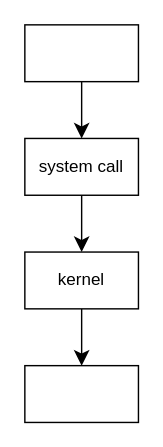
Some shapes in this 163 by 447 pixel diagram are drawn without their labels. Each missing label, with the box of its shape:
hardware: (23, 364, 138, 422)
user: (23, 23, 138, 82)
